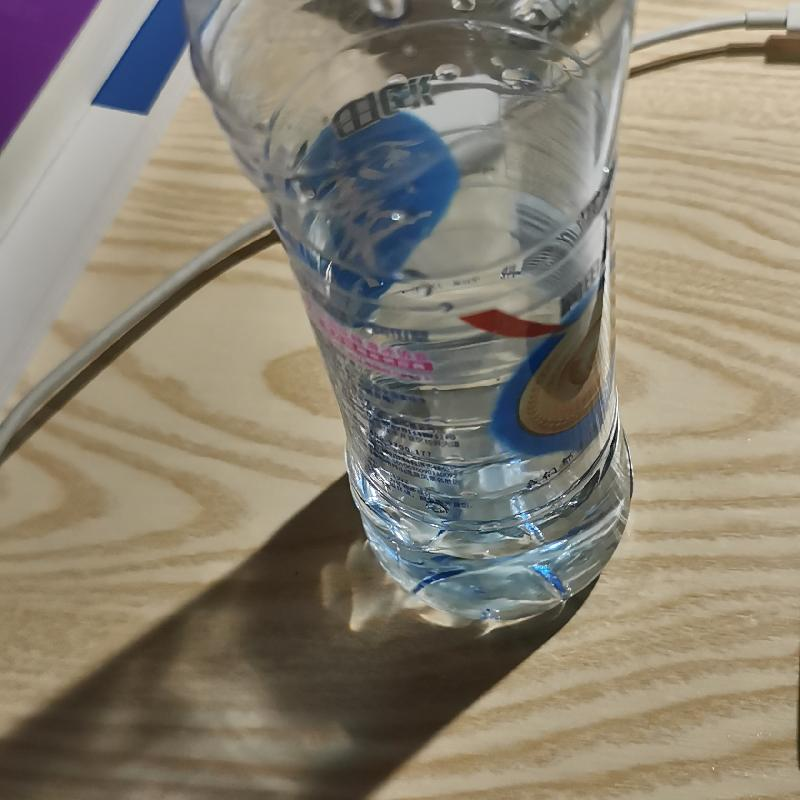bottles: (182, 1, 637, 627)
